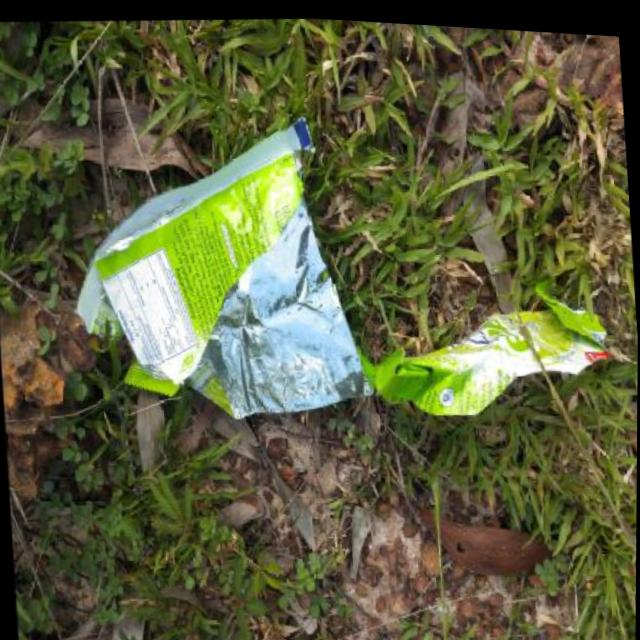plastic: (60, 100, 375, 442)
